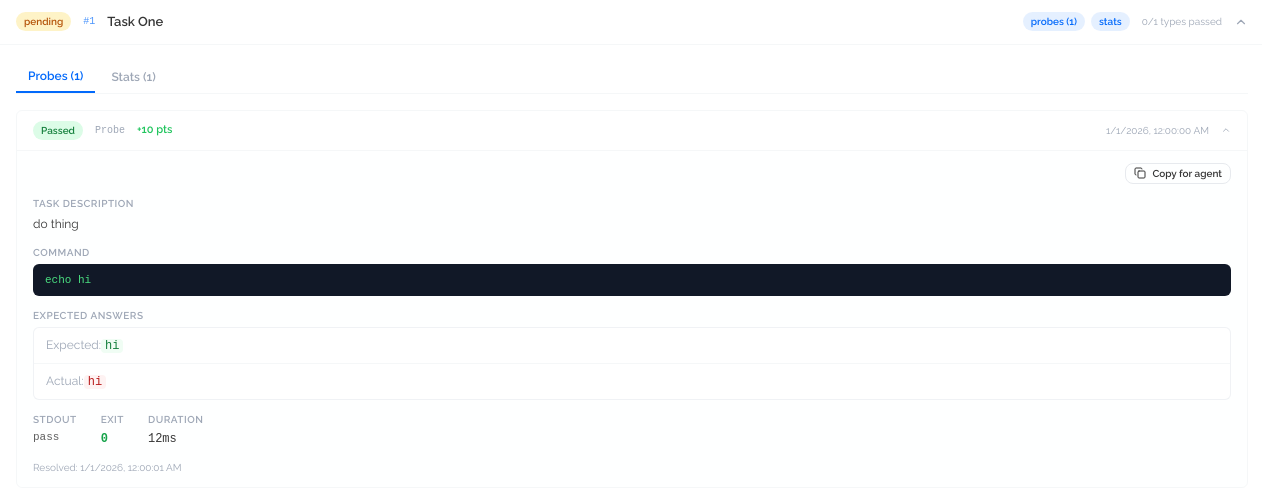
Test case: PlayerTaskPanel › stats tab renders totals, tools, and skills
The width and height of the screenshot is (1262, 489).
Click the tab with test id "tab-stats". click: (134, 76)
box: [99,60,168,92]
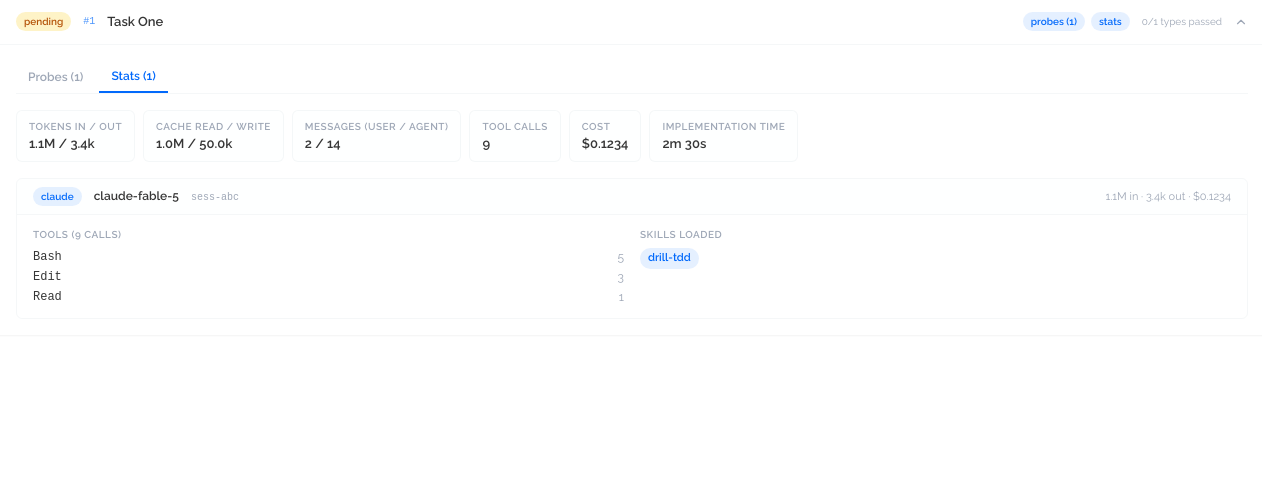
Check: the panel with test id "task-stats-1" shows "1.1M / 3.4k", box [29,136,95,150]
Check: the panel with test id "task-stats-1" shows "1.0M / 50.0k", box [156,136,232,150]
Check: the panel with test id "task-stats-1" shows "2 / 14", box [305,136,341,150]
